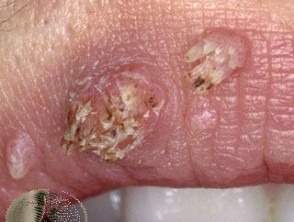Warts: (42, 49, 174, 168), (179, 22, 249, 98)
